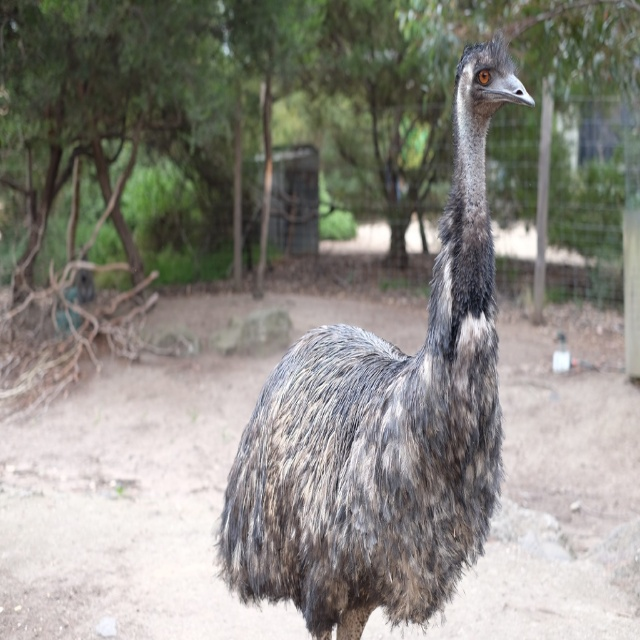Ostrich: (212, 29, 536, 640)
